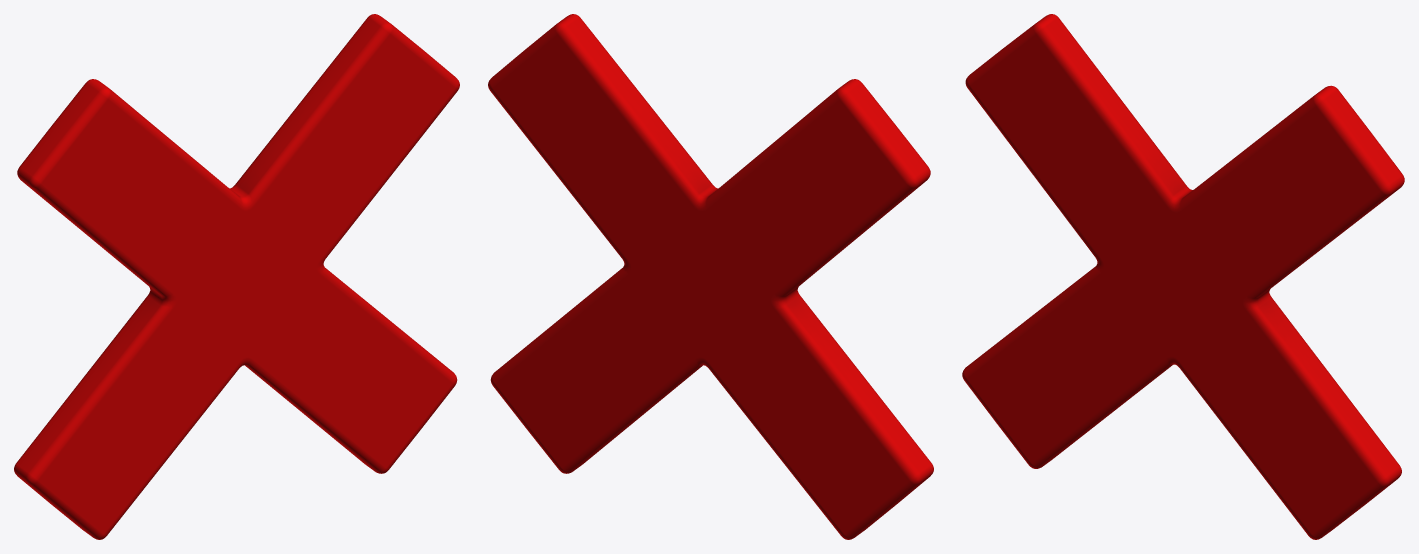
Rendered from RedCross.glb.
The picture shows the model from 3 angles, left to right: view 1: azimuth 30°, elevation 25°; view 2: azimuth 150°, elevation 25°; view 3: azimuth 330°, elevation 25°; orthographic projection.
Visible parts, largest first — view 1: node_id5; view 2: node_id5; view 3: node_id5.
Boxes of the visible parts, x1,y1,x2,y2 form: node_id5: [14, 14, 459, 539]; node_id5: [488, 14, 933, 539]; node_id5: [962, 14, 1404, 539].
Size of the model in its own units: 0.4359 by 0.4359 by 0.0344.
1 material, 1 textured.
